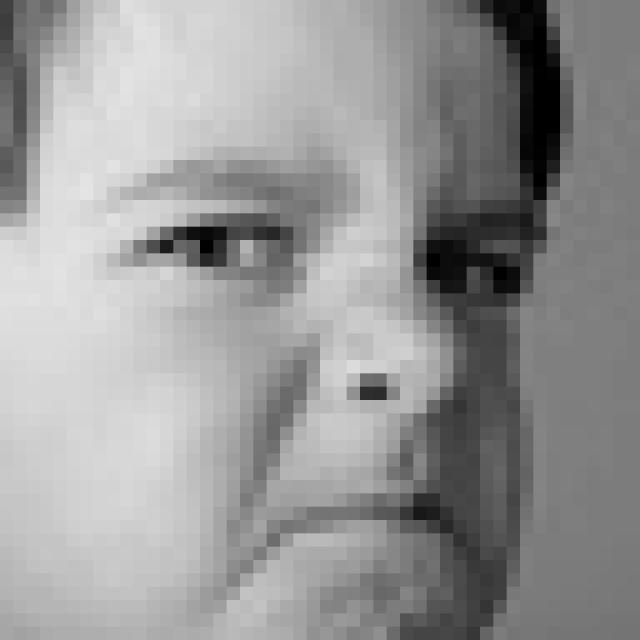angry: (107, 156, 541, 604)
